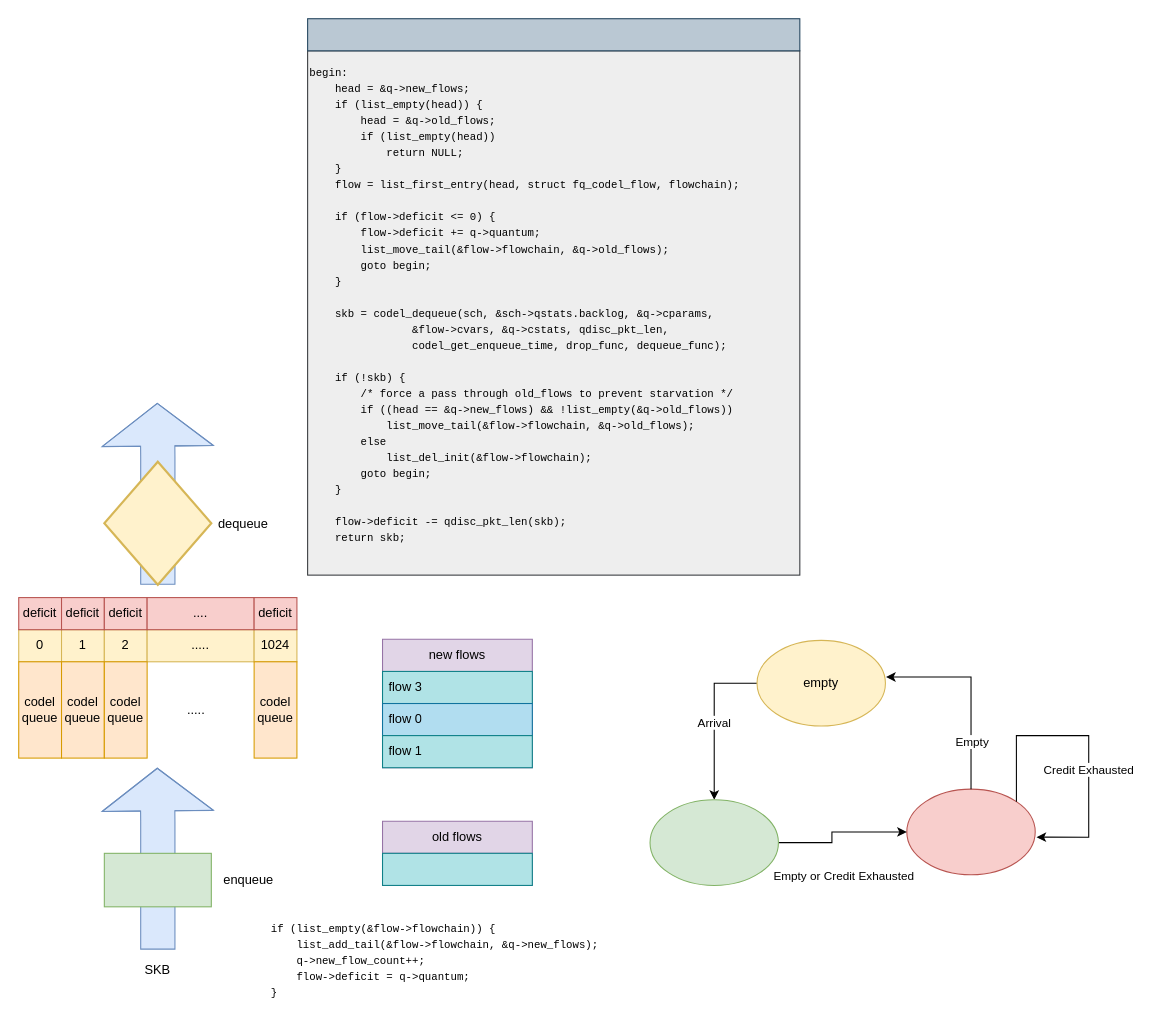
Image size: 1151x1033. Some labels were removed from this diagram. The shapes that lost their labels are listed below. From the top down, each one's centre as x and y in pixels, then its label:
At (553,34): "fq scheduler".
At (157,522): "DRR Scheduler".
At (713,842): "new".
At (970,831): "old".
At (157,879): "HASH".
At (456,868): "flow 2".
